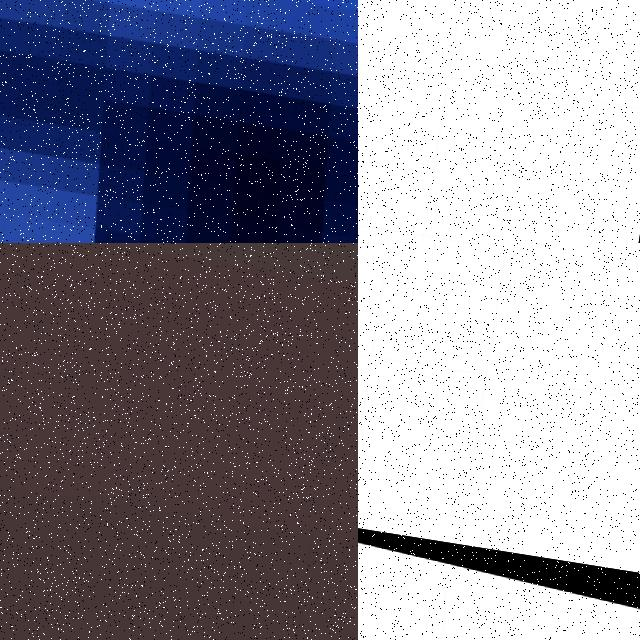0: (0, 0, 358, 243)
drone: (358, 499, 640, 640)
